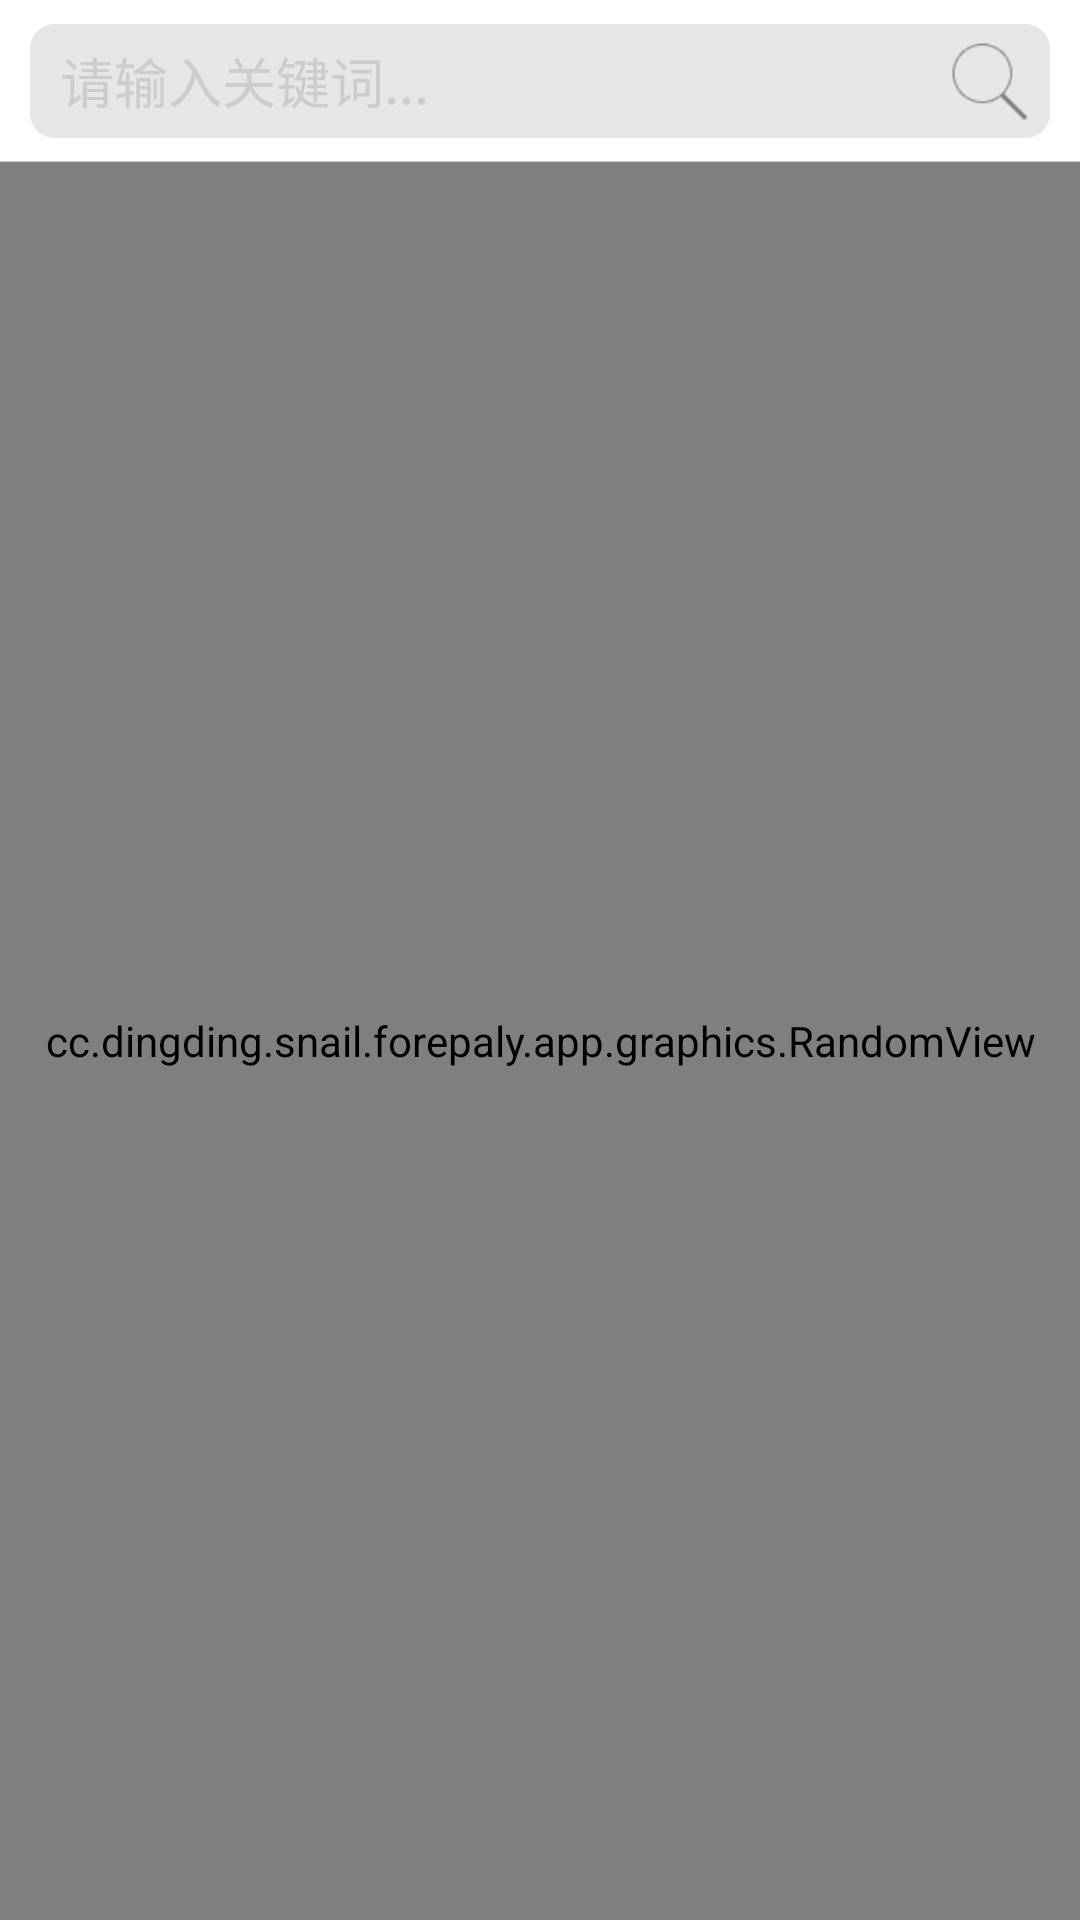

Screen size 1080 x 1920. Icon name, then its center in pixels as (x=x, y=y):
foot search: (x=990, y=81)
